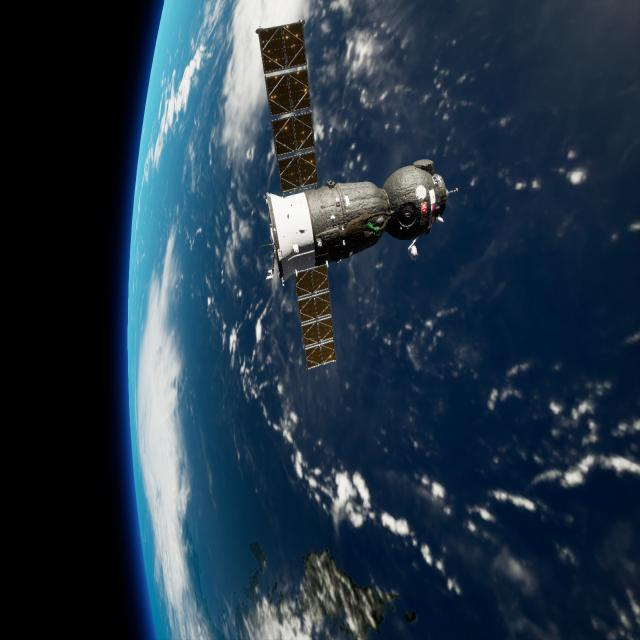Satellites revolving around earth: (252, 16, 457, 373)
